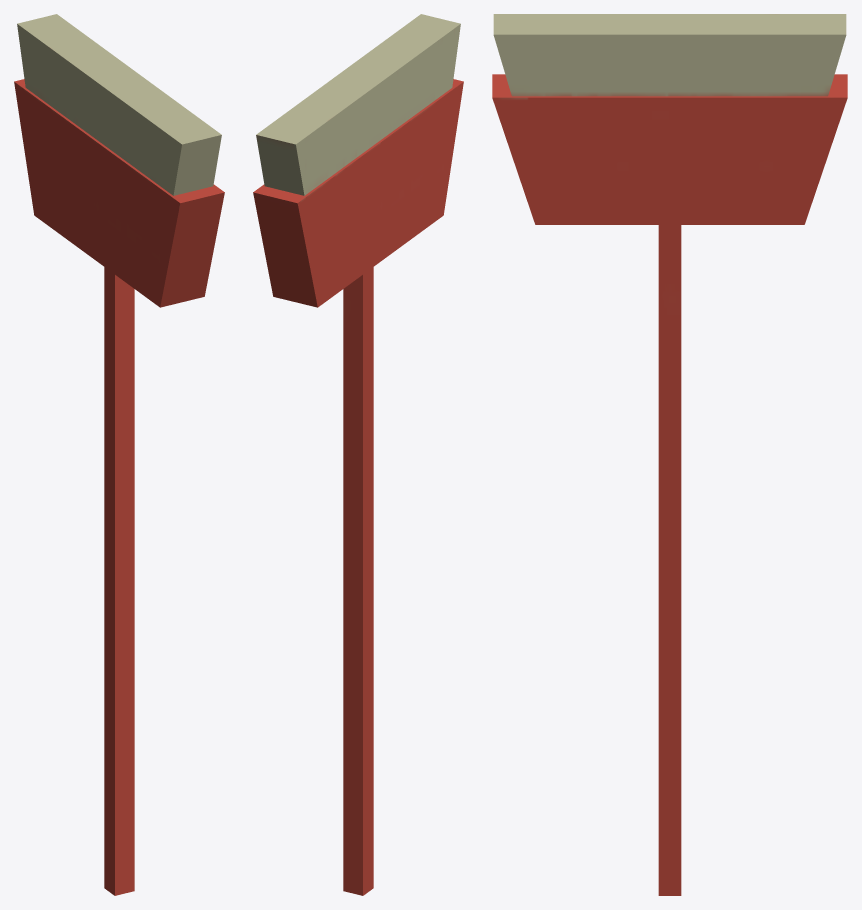
Rendered from Broom.fbx.
3 renders of one model, left to right at view 1: azimuth 30°, elevation 25°; view 2: azimuth 150°, elevation 25°; view 3: azimuth 270°, elevation 25°, orthographic. The views are drawn at different scales.
Parts seen in each view (by area): view 1: Cube; view 2: Cube; view 3: Cube.
Part boxes in pixels (x1,y1,x2,y2): Cube: [14, 14, 224, 895]; Cube: [253, 14, 463, 895]; Cube: [492, 14, 847, 895].
Size of the model in its own units: 13.72 by 238 by 88.67.
